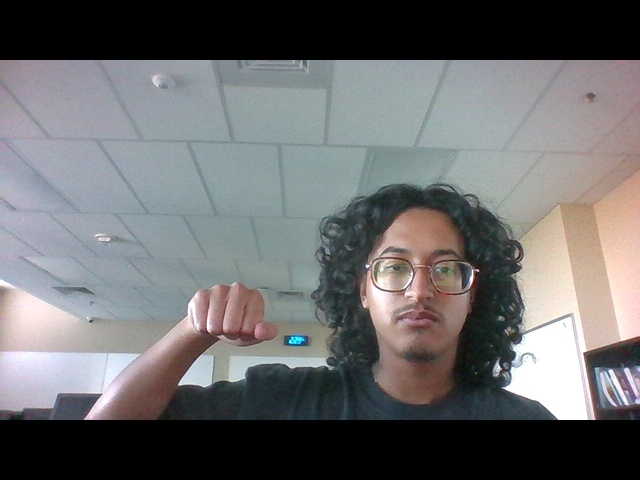yes: (175, 271, 293, 354)
